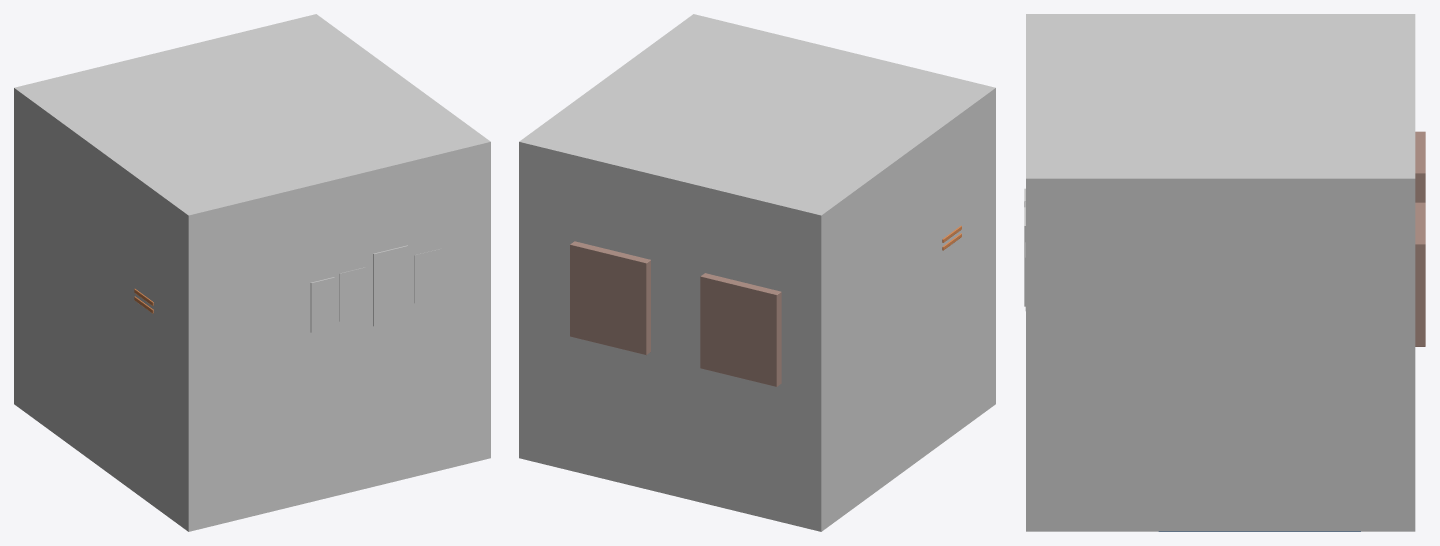
The model's file is 2 - children.fbx.
3 renders of one model, left to right at view 1: azimuth 30°, elevation 25°; view 2: azimuth 150°, elevation 25°; view 3: azimuth 270°, elevation 25°, orthographic. The views are drawn at different scales.
Visible parts, largest first — view 1: Cube, art.001; view 2: Cube, window, window.001; view 3: Cube, window.001, window.
Boxes of the visible parts, x1,y1,x2,y2 form: Cube: (14,14,490,531); art.001: (310,245,442,332); Cube: (519,14,995,531); window: (700,273,781,386); window.001: (570,241,650,354); Cube: (1026,14,1415,531); window.001: (1415,202,1425,346); window: (1415,131,1425,202).
Size of the model in its own units: 301 by 300 by 309.
